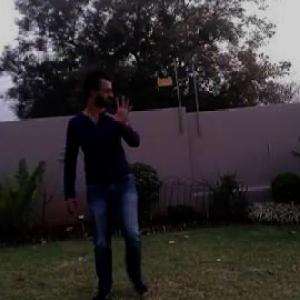follow_hand: (103, 89, 137, 127)
